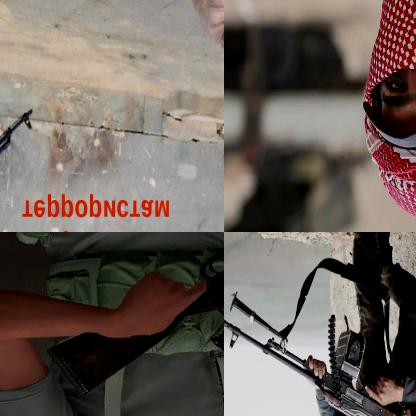rifle: (44, 232, 223, 400), (224, 289, 415, 415), (0, 103, 37, 231)
